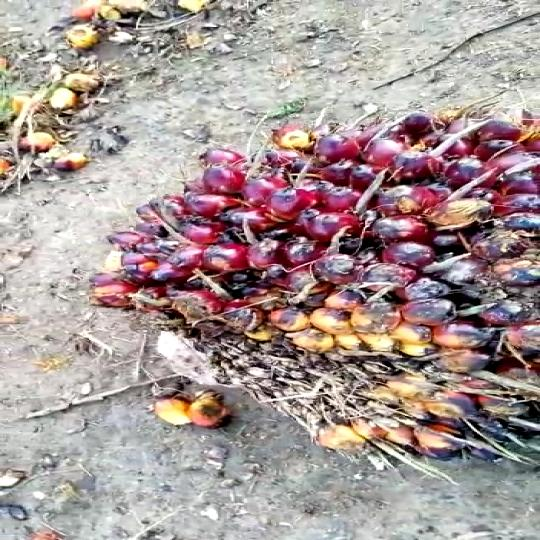kurang masak: (138, 101, 540, 494)
